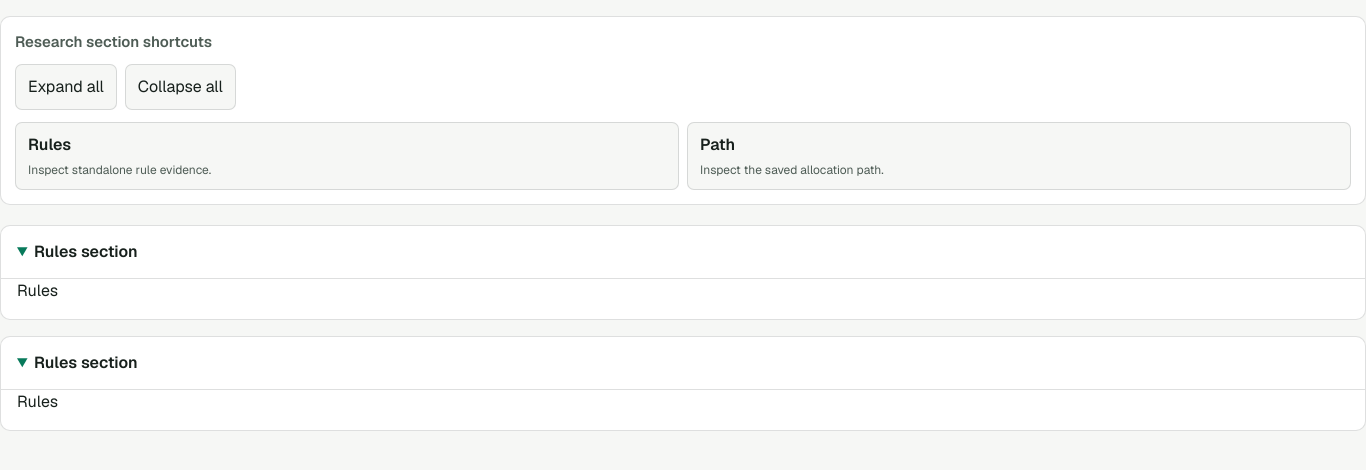
it: scoped folding controls and disclosure navigation › skips ambiguous and detached managed targets at bulk-click time before observer delivery
This screenshot has width=1366, height=470.
Step 1. Click the button "Collapse all" → (180, 86), box [125, 64, 236, 110]
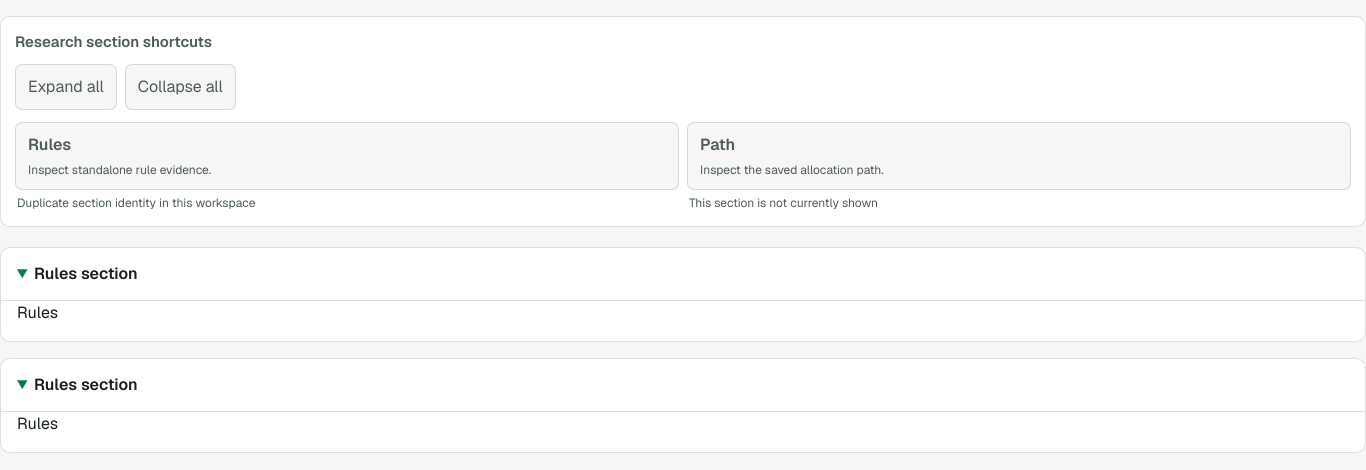
Now the button "Collapse all" is disabled, box [125, 64, 236, 110]
